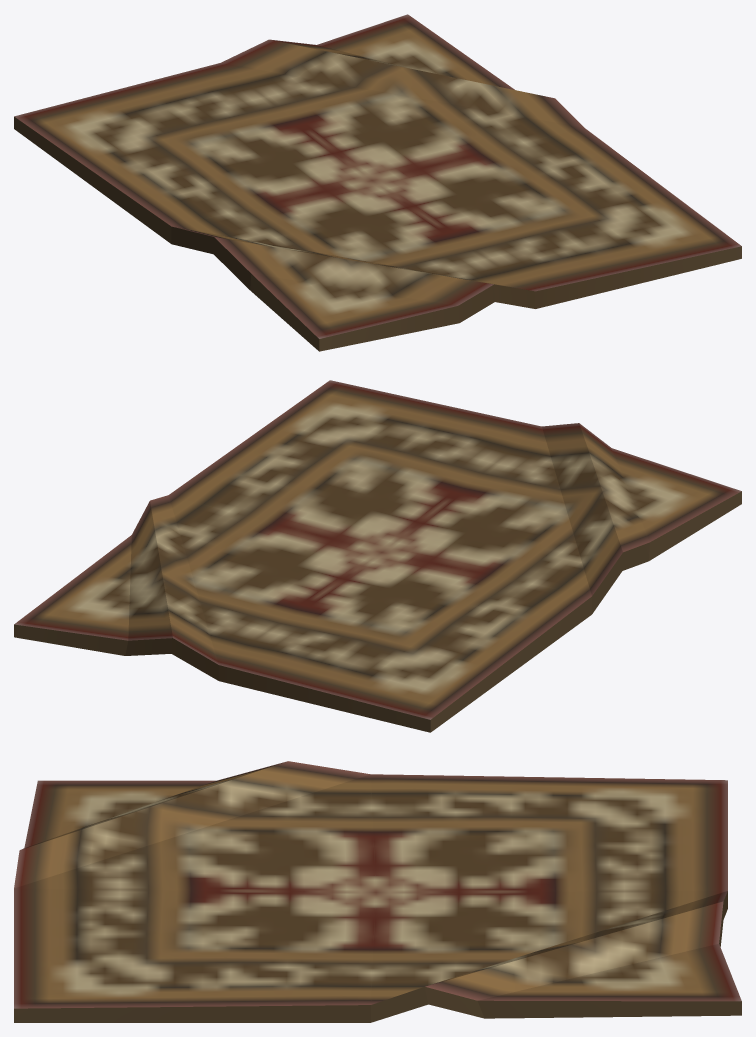
Rendered from SM_Prop_Rug_29.fbx.
The picture shows the model from 3 angles, top to bottom: view 1: azimuth 30°, elevation 25°; view 2: azimuth 150°, elevation 25°; view 3: azimuth 270°, elevation 25°; orthographic projection. The views are drawn at different scales.
Visible parts, largest first — view 1: SM_Prop_Rug_29; view 2: SM_Prop_Rug_29; view 3: SM_Prop_Rug_29.
Boxes of the visible parts, x1,y1,x2,y2 form: SM_Prop_Rug_29: (14,14,741,351); SM_Prop_Rug_29: (14,380,741,732); SM_Prop_Rug_29: (14,761,741,1022).
Size of the model in its own units: 115 by 9.08 by 155.
